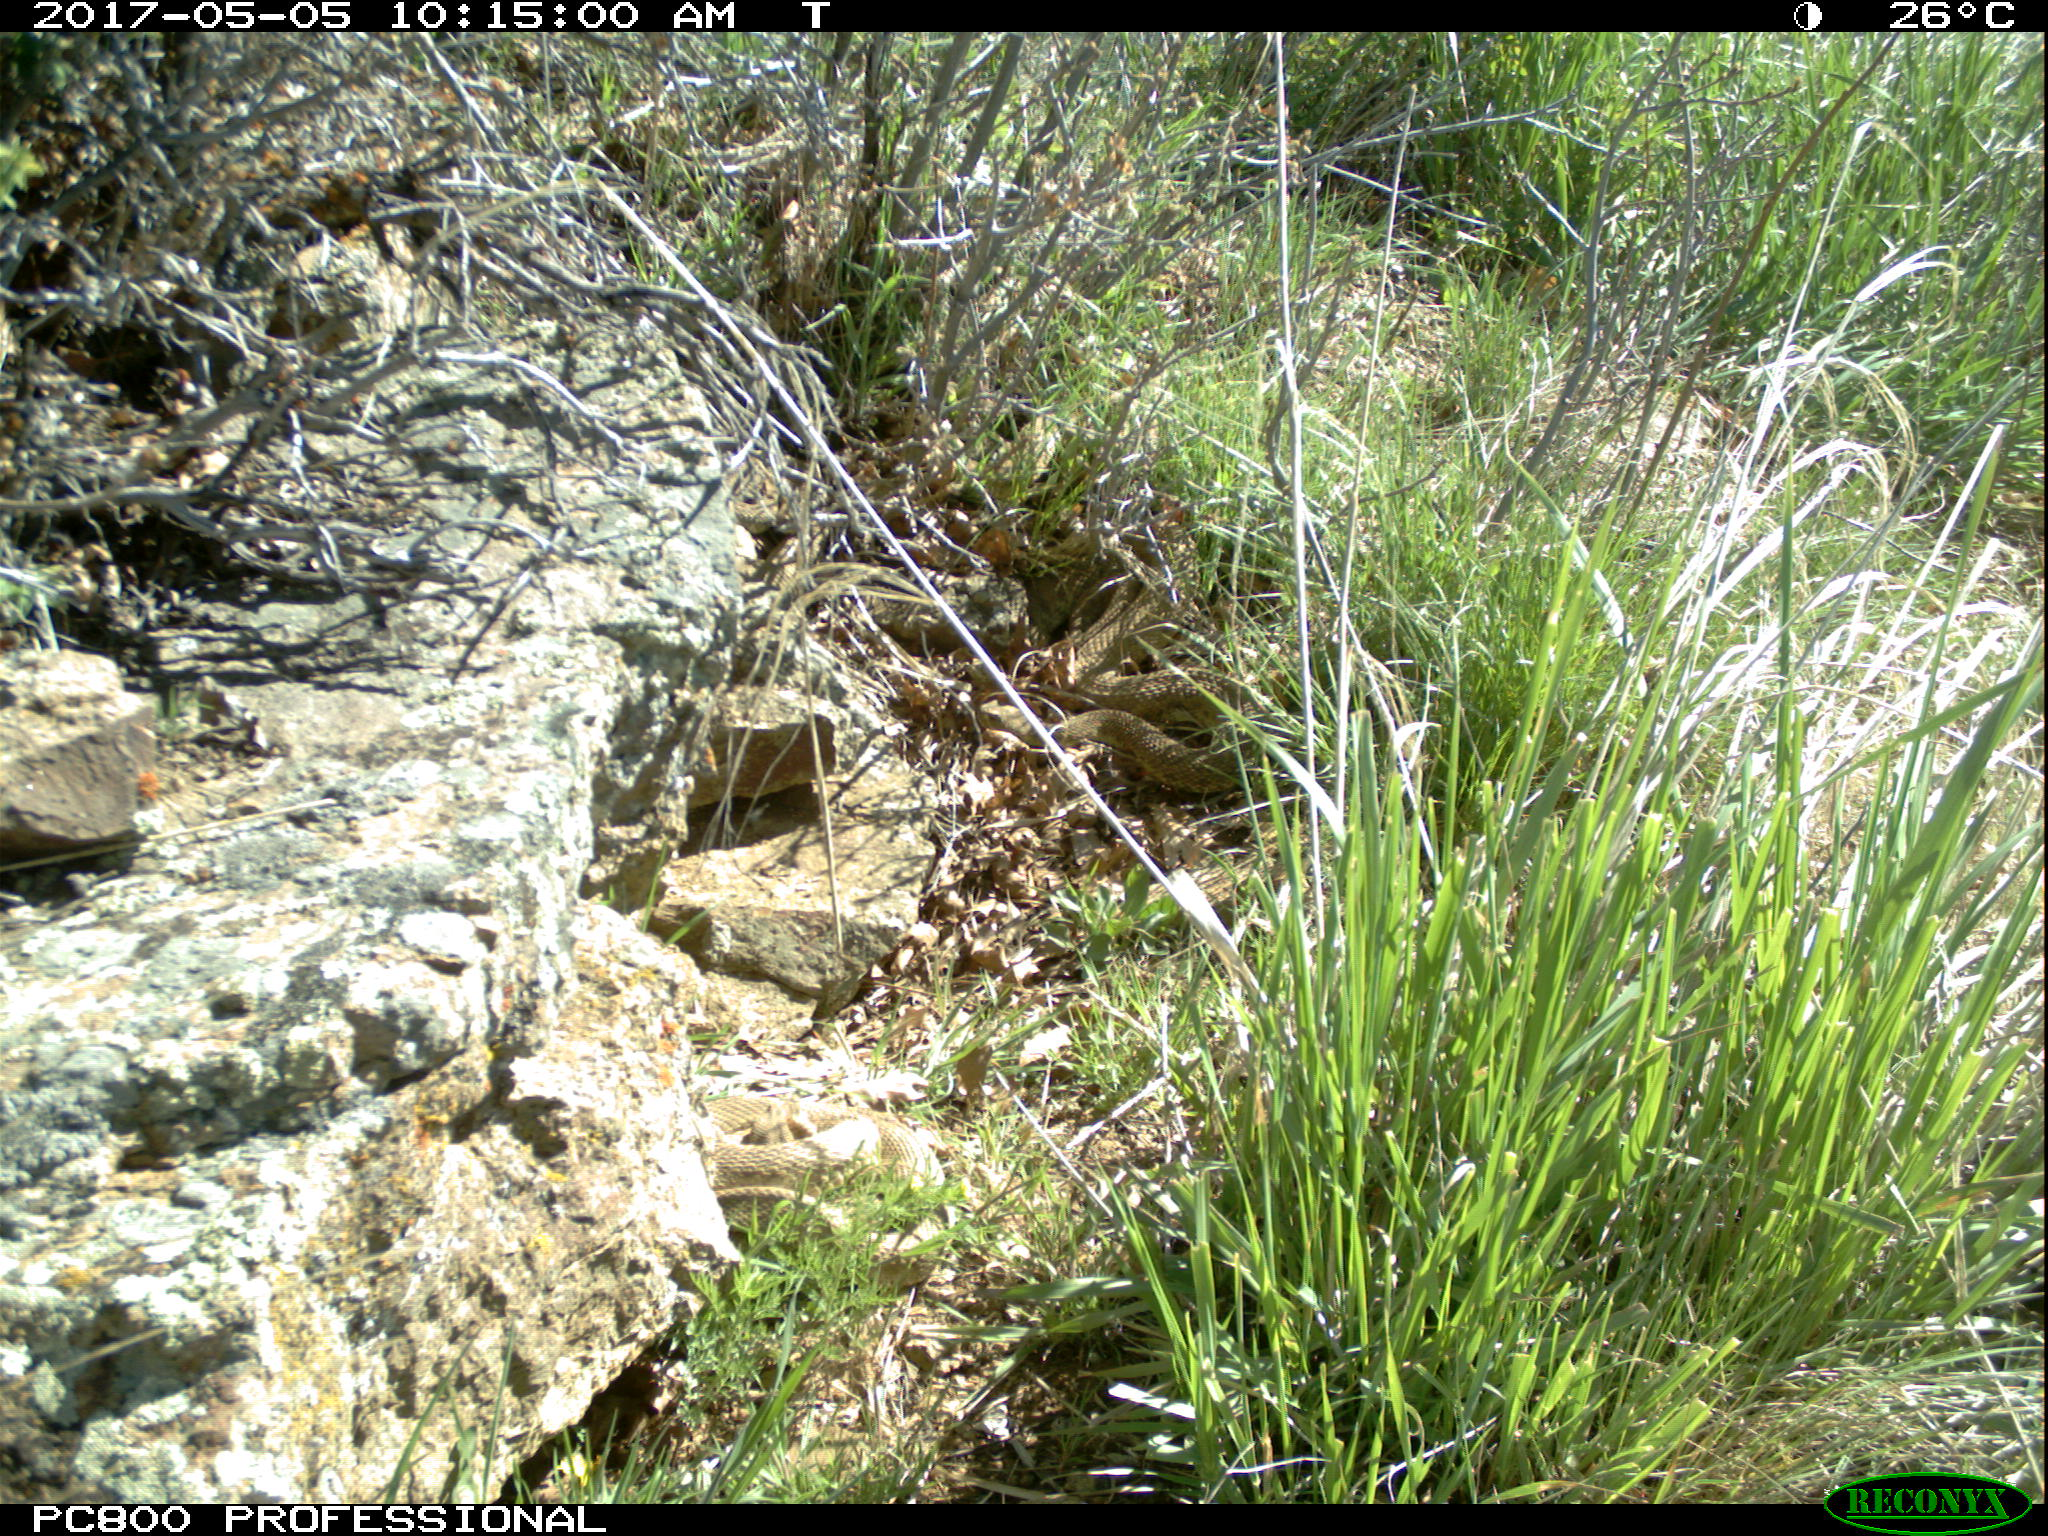snake: (703, 1092, 971, 1305), (1040, 573, 1268, 808)
